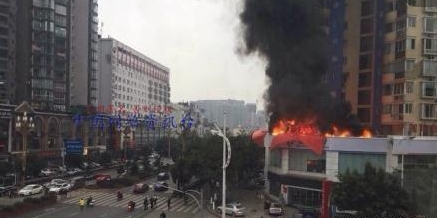山火: (270, 116, 373, 138)
烟雾: (221, 0, 386, 137)
